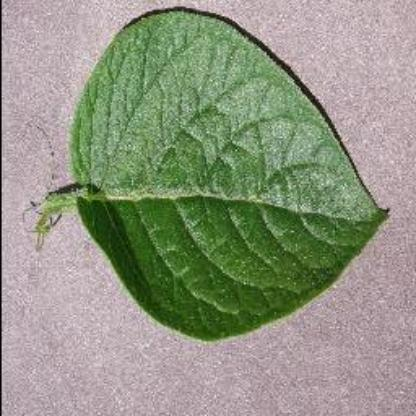Healthy-plant: (28, 8, 406, 350)
